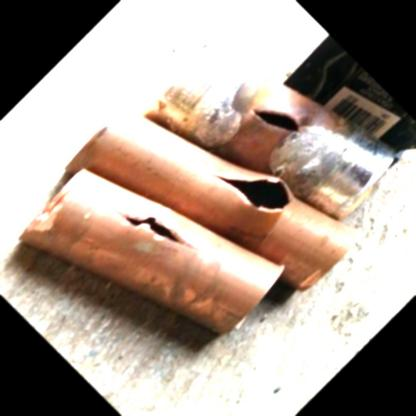burst: (119, 206, 195, 266), (217, 172, 299, 223), (252, 99, 311, 148)
